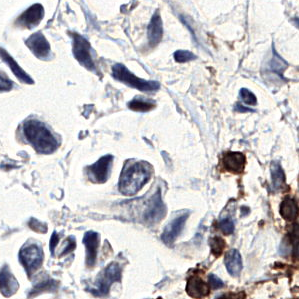Lymphocyte: (218, 149, 250, 173)
